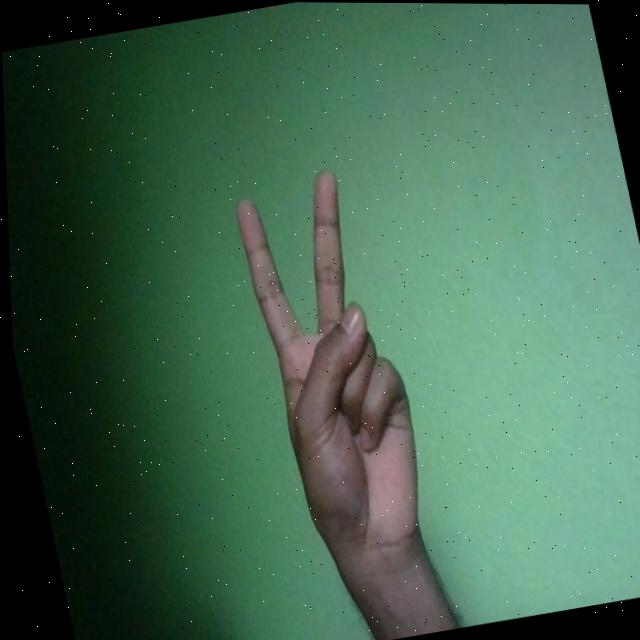Peace: (227, 163, 436, 575)
